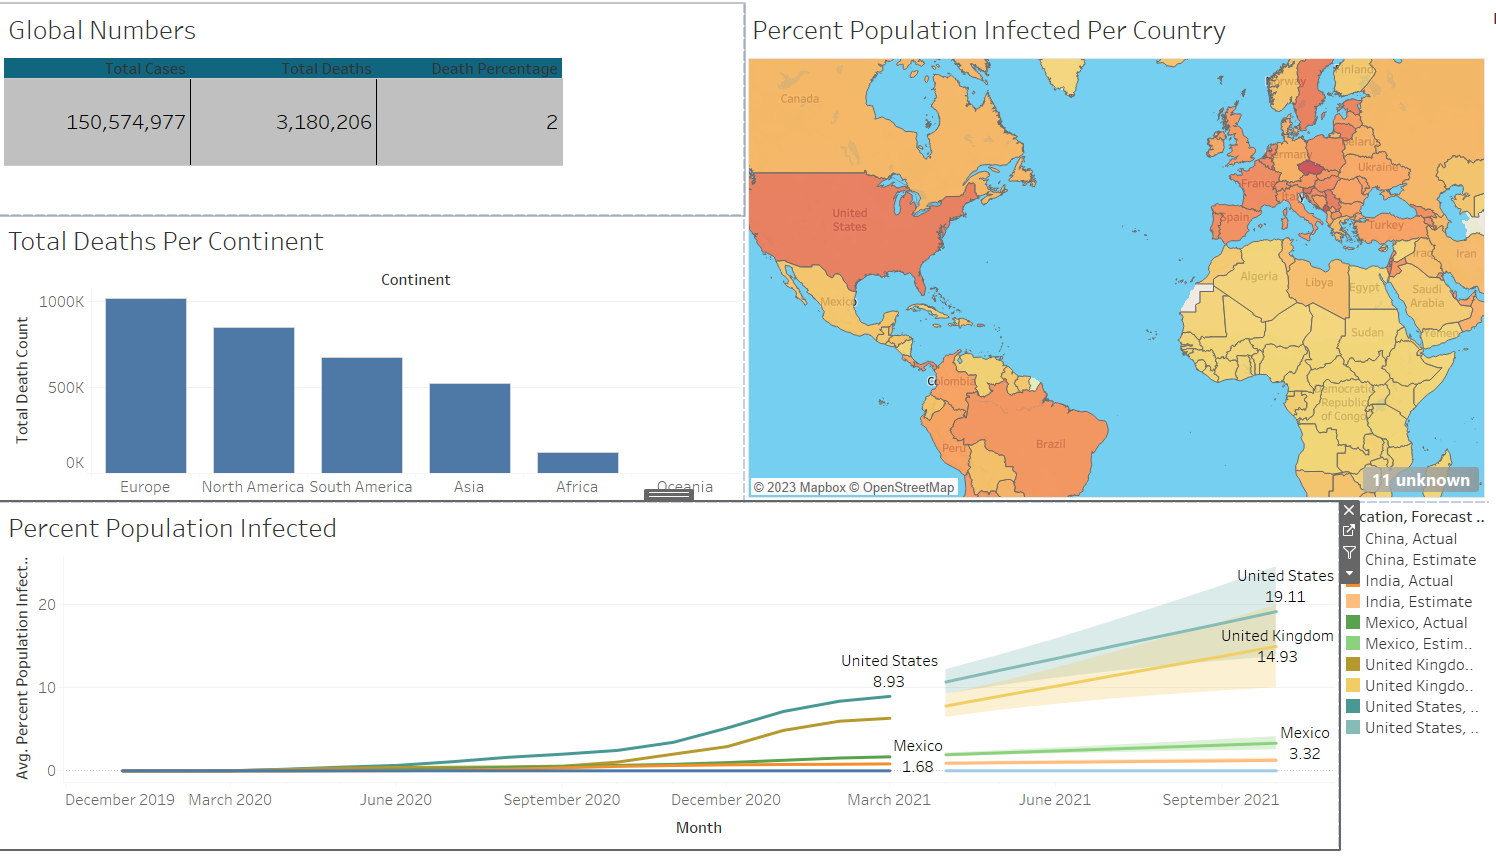

Layout of this report page (visuals, bound fields, positions):
{"tool":"tableau","page":{"name":"Dashboard 1","canvas":[1000,1000],"units":"permille","ordinal":0},"visuals":[{"type":"worksheet","title":"Sheet 1","mark":"Automatic","box":[4.8,9.3,449.3,245.3]},{"type":"worksheet","title":"Sheet 3","mark":"Automatic","box":[454.1,9.3,449.3,578.4]},{"type":"legend","title":"Sheet 3","param":"[federated.1u6pgzk0rhh873144wigi0cf6ax3].[sum:PercentPopulationInfected:qk]","box":[903.4,9.3,91.7,84.8]},{"type":"worksheet","title":"Sheet 2","mark":"Automatic","rows":["TotalDeathCount"],"cols":["location"],"box":[4.8,254.6,449.3,333.1]},{"type":"worksheet","title":"Sheet 4","mark":"Automatic","rows":["PercentPopulationInfected"],"cols":["date"],"box":[4.8,587.7,808,403]},{"type":"legend","title":"Sheet 4","param":"[federated.0fv2uox0hbhi61182v4641vh426j].[none:Location:nk]\n[federated.0fv2uox0h","box":[812.8,587.7,90.6,403]}]}

Visuals, with their boxes on the dashboard's canvas, which has no fixed pixel size, in thousandths of its width and height (x1, y1, x2, y2). These are canvas units, not pixel positions in the 1496x857 screenshot, which may show the page scaled, cropped or inside an application window:
"Sheet 1" worksheet: left=5, top=9, right=454, bottom=255
"Sheet 3" worksheet: left=454, top=9, right=903, bottom=588
"Sheet 3" legend: left=903, top=9, right=995, bottom=94
"Sheet 2" worksheet: left=5, top=255, right=454, bottom=588
"Sheet 4" worksheet: left=5, top=588, right=813, bottom=991
"Sheet 4" legend: left=813, top=588, right=903, bottom=991
